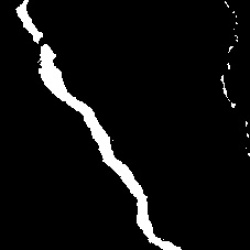crack: (40, 45, 181, 249), (222, 2, 236, 110), (16, 1, 43, 43)
